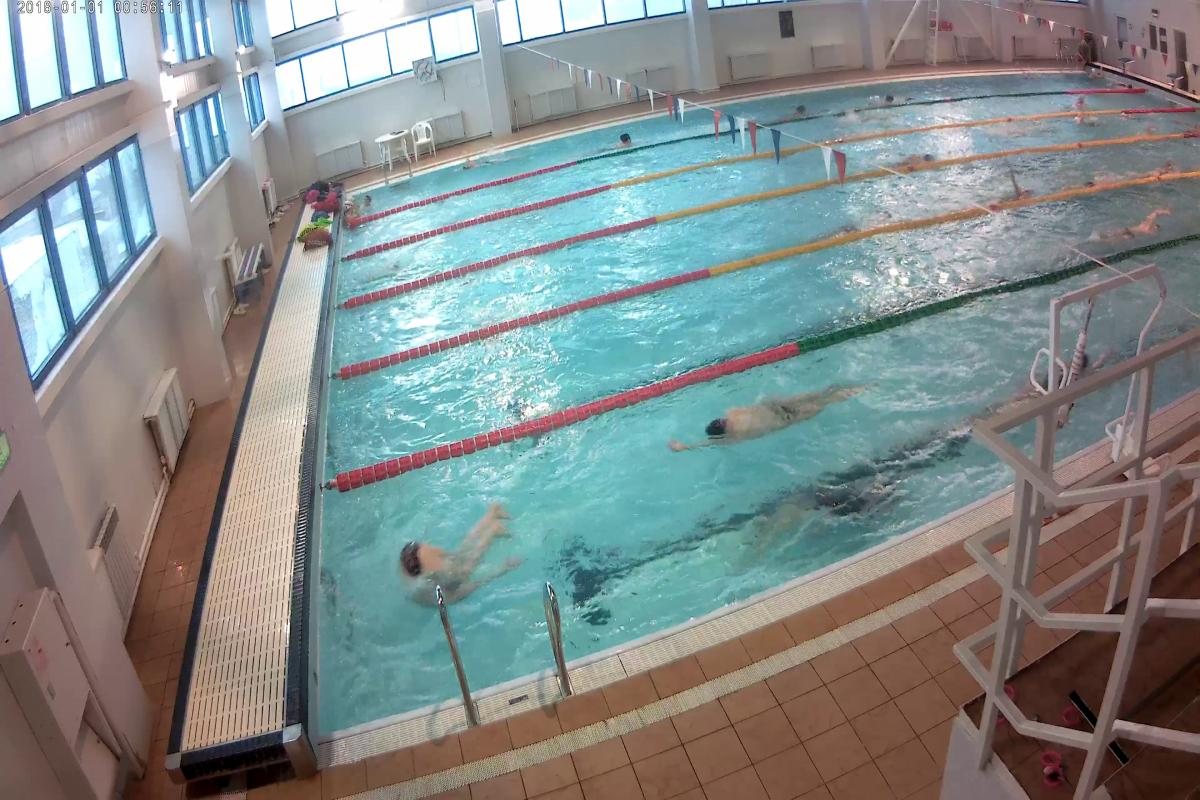swimmer: (665, 372, 881, 464), (394, 499, 522, 606), (756, 476, 897, 560), (1097, 201, 1186, 242), (997, 166, 1039, 200), (897, 144, 941, 165)
